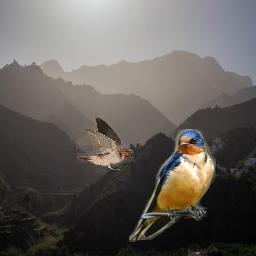Swallow: (129, 129, 216, 242), (76, 117, 134, 170)
